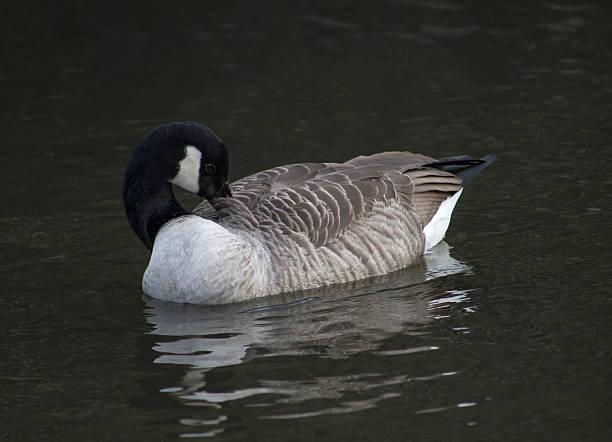Canadian-Goose: (122, 120, 489, 305)
